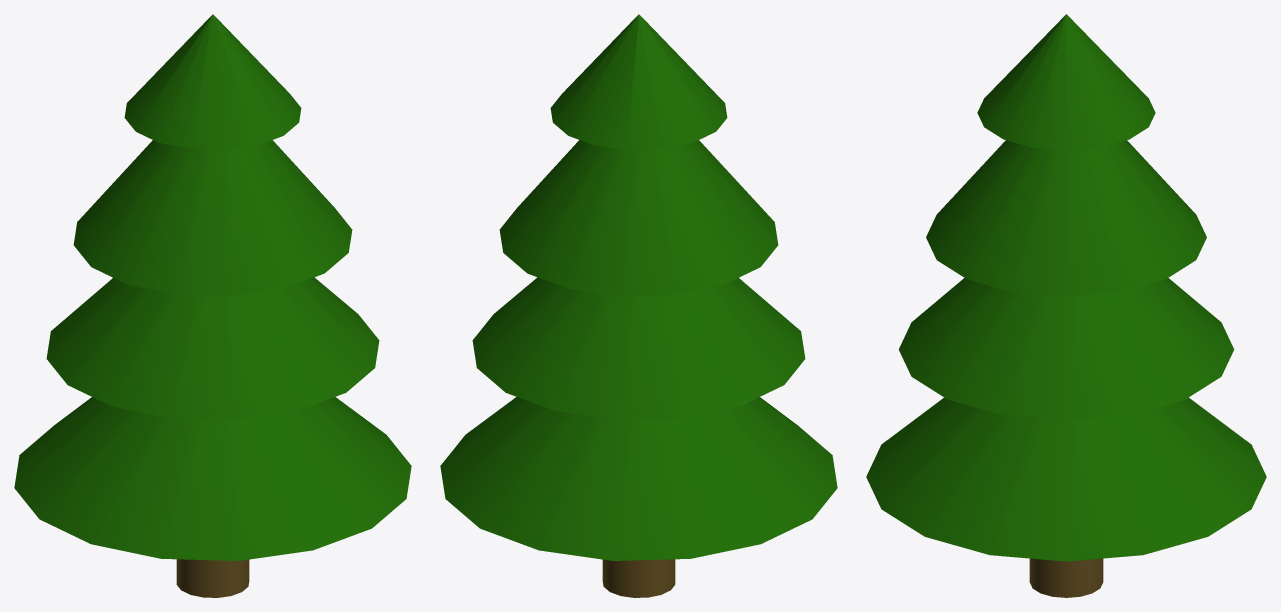
File: moominPineDone.FBX
3 renders of one model, left to right at view 1: azimuth 30°, elevation 25°; view 2: azimuth 150°, elevation 25°; view 3: azimuth 270°, elevation 25°, orthographic.
Parts seen in each view (by area): view 1: Line001; view 2: Line001; view 3: Line001.
Part boxes in pixels (x1,y1,x2,y2): Line001: [14, 14, 411, 597]; Line001: [440, 14, 837, 597]; Line001: [866, 14, 1266, 597].
Bounding box in the file's own units: 251 × 392 × 251.
1 material, 1 textured.
